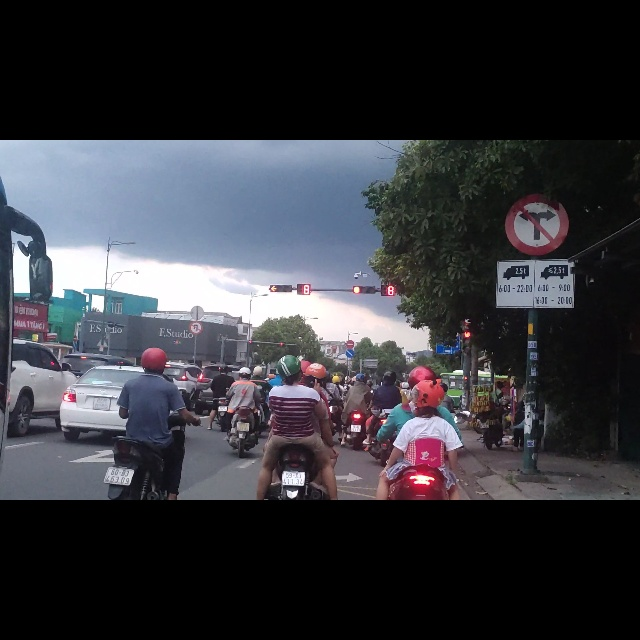bien_chi_dan: (506, 97, 570, 205), (496, 213, 574, 301), (189, 321, 203, 345), (345, 372, 354, 388), (346, 356, 354, 371)
